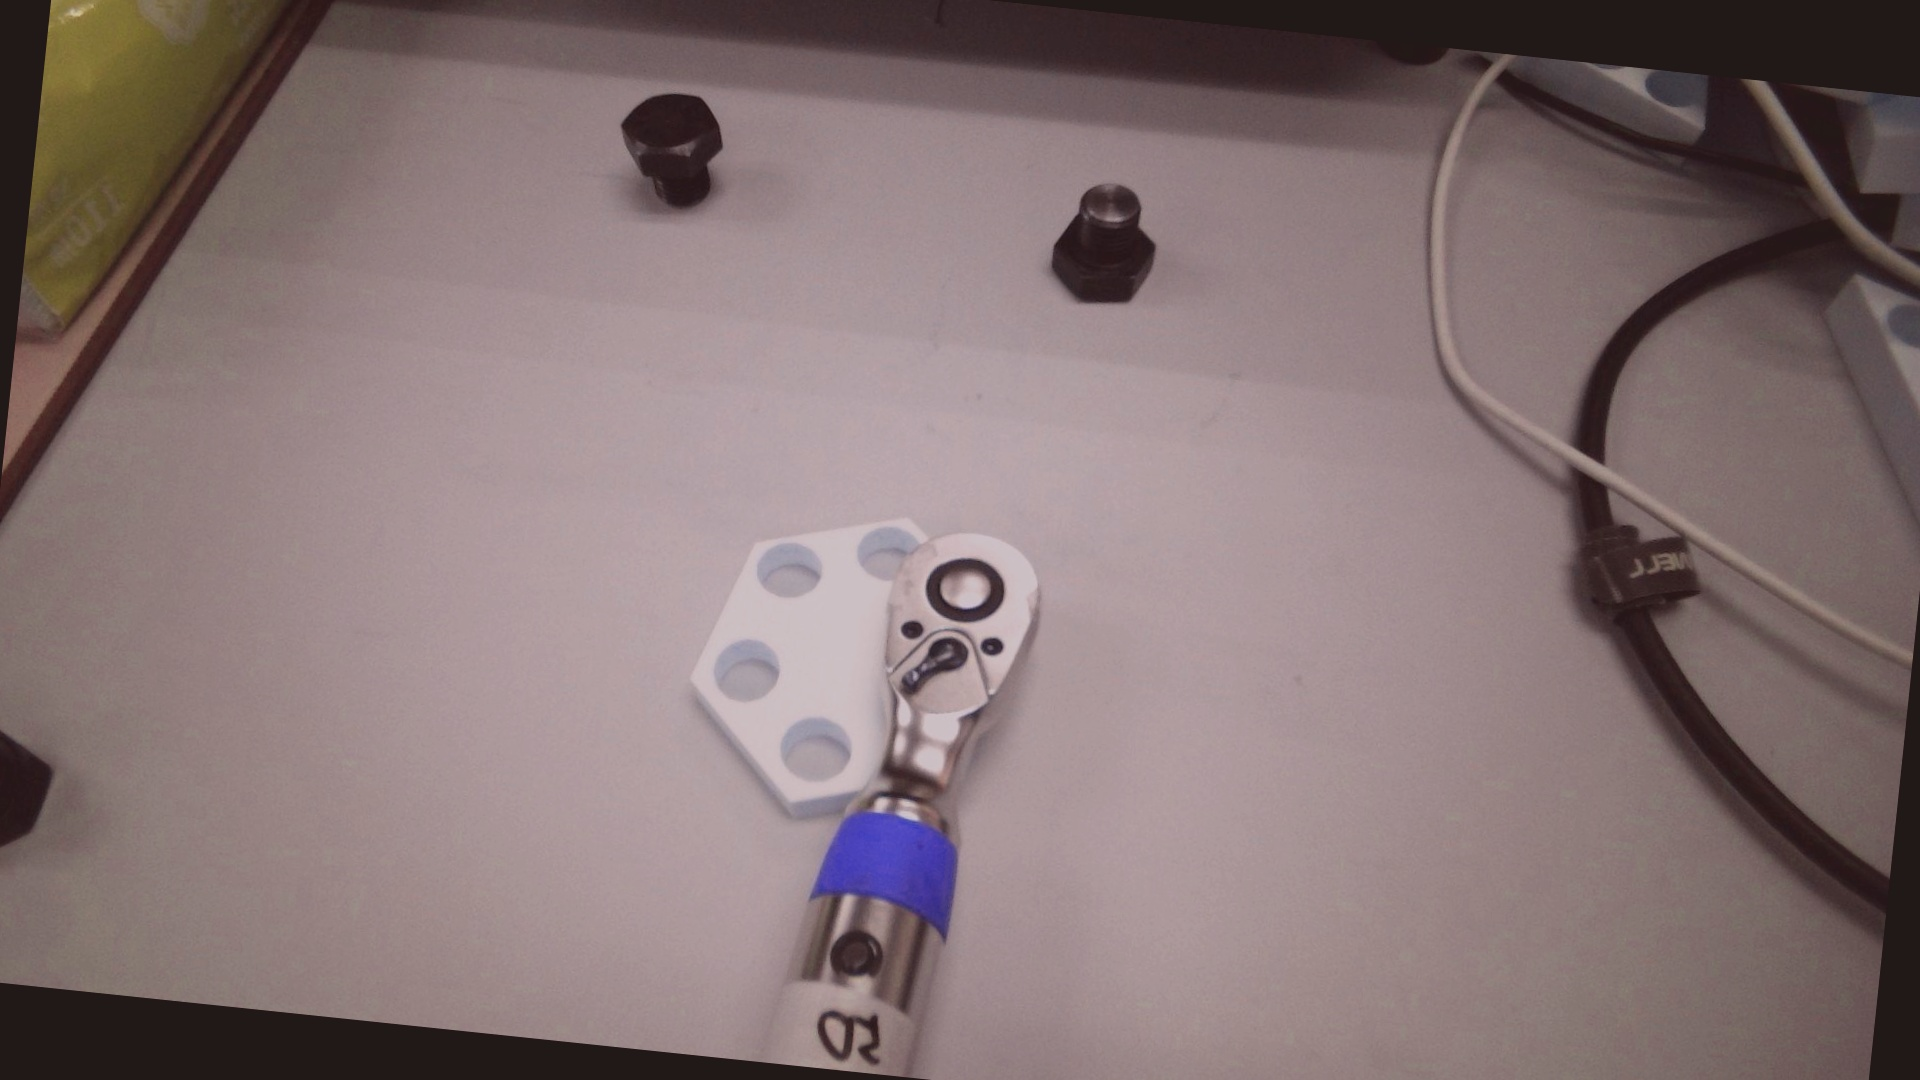hole: (775, 712, 855, 785), (709, 636, 783, 705), (754, 541, 825, 600), (852, 524, 920, 584)
obj: (675, 495, 932, 828)
wrench: (920, 553, 1006, 626)
